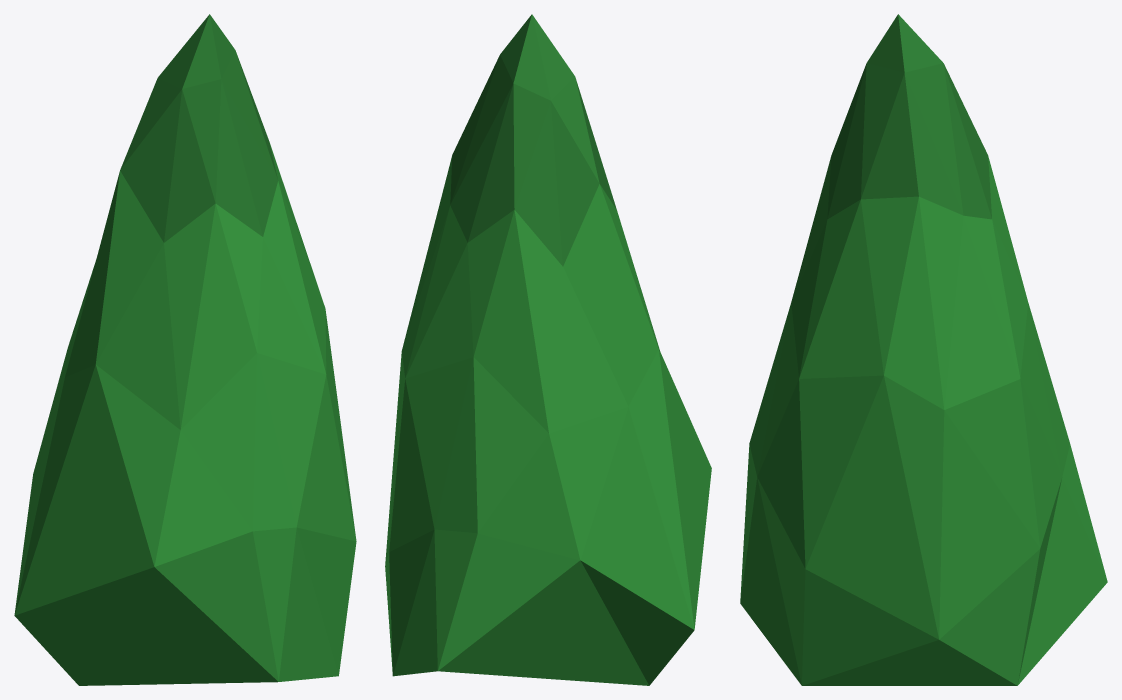
The model's file is Tree_6_Green.fbx.
The picture shows the model from 3 angles, left to right: view 1: azimuth 30°, elevation 25°; view 2: azimuth 150°, elevation 25°; view 3: azimuth 270°, elevation 25°; orthographic projection.
Parts seen in each view (by area): view 1: Tree_6_Green; view 2: Tree_6_Green; view 3: Tree_6_Green.
Part boxes in pixels (x1,y1,x2,y2): Tree_6_Green: [14, 14, 356, 685]; Tree_6_Green: [385, 14, 711, 685]; Tree_6_Green: [740, 14, 1107, 685].
Size of the model in its own units: 394 by 793 by 415.
